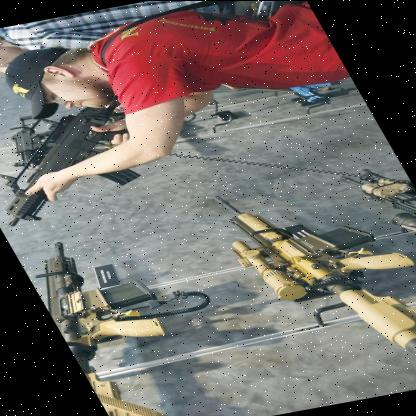rifle: (198, 160, 416, 379), (0, 96, 175, 229)
